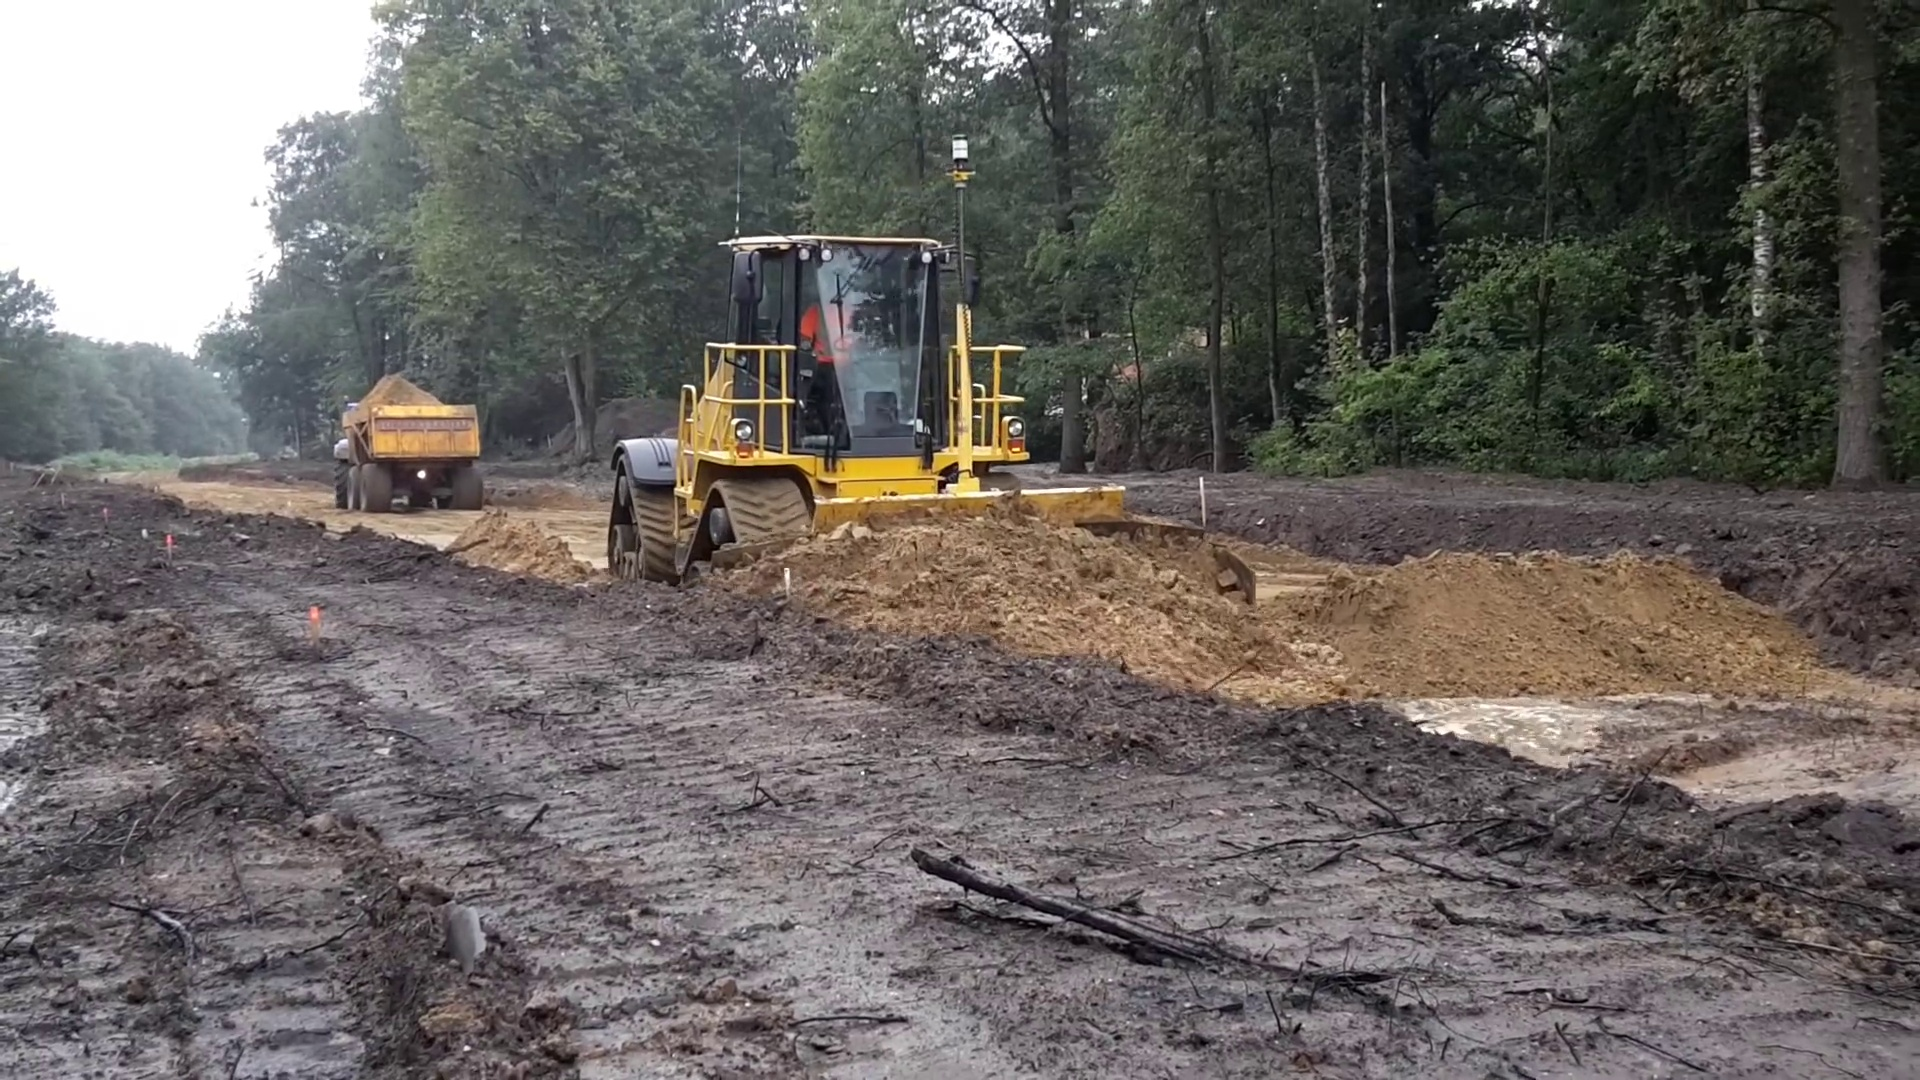bulldozer: (605, 231, 1153, 608)
truck: (330, 373, 489, 516)
